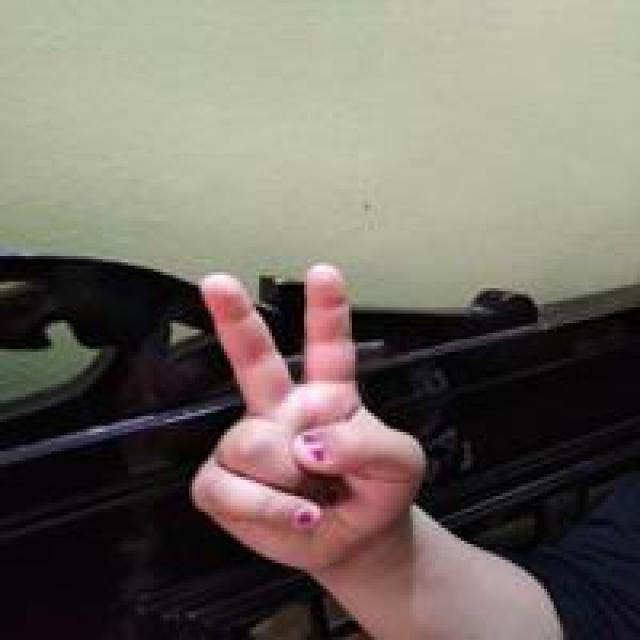V: (179, 258, 429, 596)
